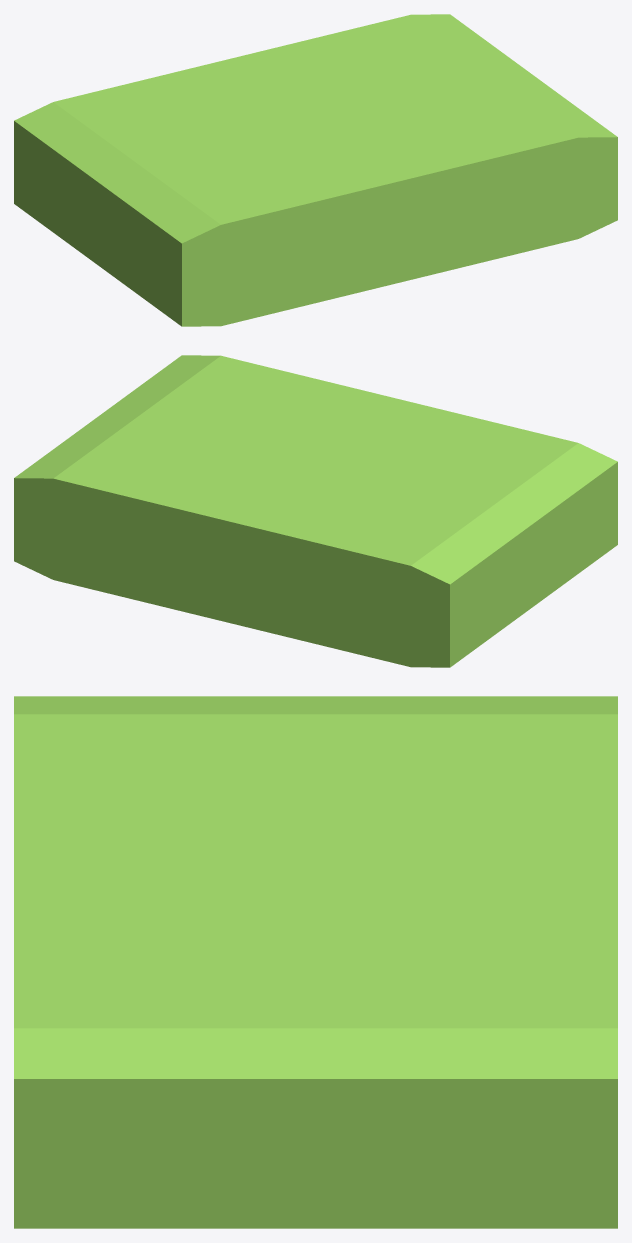
File: CHASSIS.dae
3 renders of one model, top to bottom at view 1: azimuth 30°, elevation 25°; view 2: azimuth 150°, elevation 25°; view 3: azimuth 270°, elevation 25°, orthographic. The views are drawn at different scales.
Visible parts, largest first — view 1: CHASSIS.001; view 2: CHASSIS.001; view 3: CHASSIS.001.
Boxes of the visible parts, x1=… form: CHASSIS.001: x1=14, y1=14, x2=617, y2=326; CHASSIS.001: x1=14, y1=355, x2=617, y2=667; CHASSIS.001: x1=14, y1=696, x2=617, y2=1228.
Bounding box in the file's own units: 0.45 × 0.3 × 0.1.
